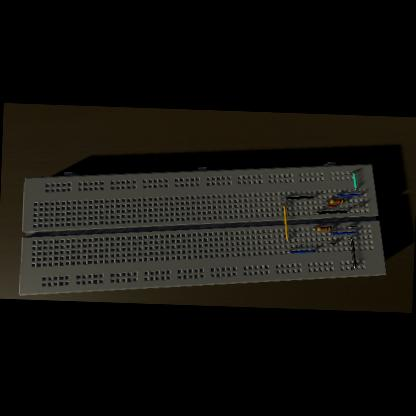breadboard: (20, 152, 390, 309)
resistor: (329, 198, 346, 204), (316, 226, 332, 232)
wire: (348, 237, 358, 268), (282, 204, 289, 242), (314, 210, 348, 215), (326, 231, 356, 236), (286, 250, 315, 255), (350, 173, 358, 191), (282, 196, 315, 200), (333, 194, 362, 198), (324, 206, 336, 209), (355, 206, 363, 208), (348, 226, 356, 228), (328, 244, 336, 245), (332, 228, 334, 229), (324, 202, 330, 202)
